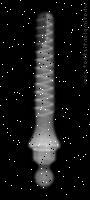Euroteknika: (21, 8, 64, 189)
